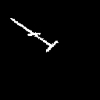double_crochet: (11, 18, 57, 51)
